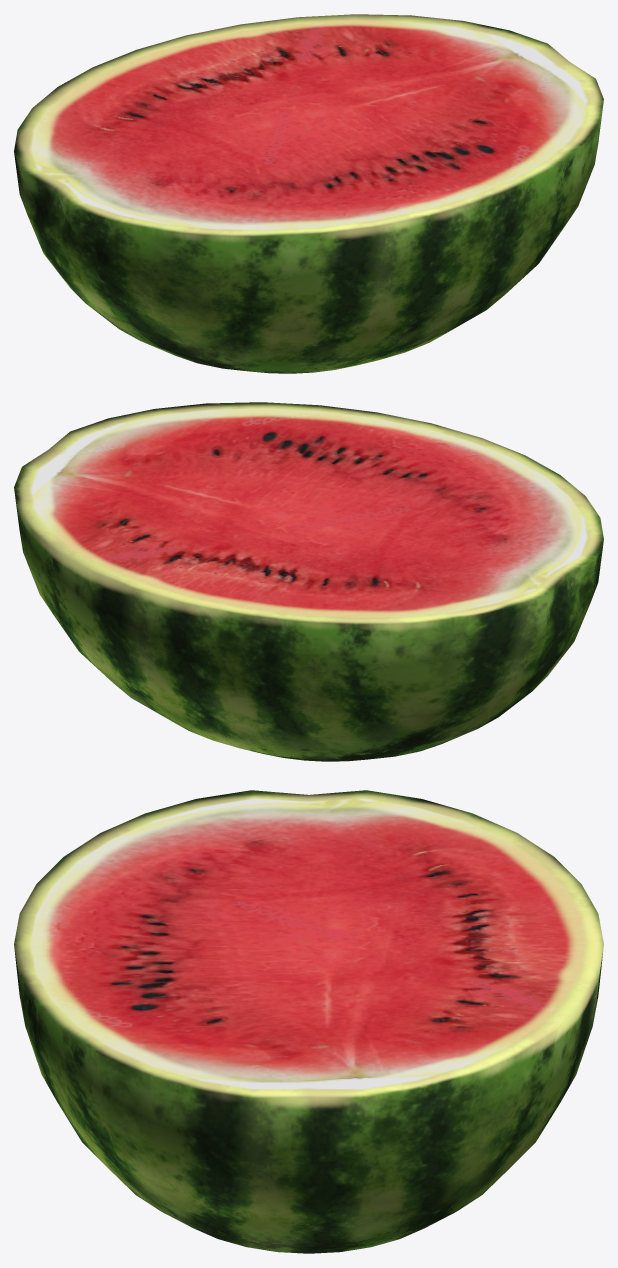
File: SM_Watermelon.fbx
3 renders of one model, top to bottom at view 1: azimuth 30°, elevation 25°; view 2: azimuth 150°, elevation 25°; view 3: azimuth 270°, elevation 25°, orthographic. The views are drawn at different scales.
Visible parts, largest first — view 1: SM_Watermelon_LOD0; view 2: SM_Watermelon_LOD0; view 3: SM_Watermelon_LOD0.
Part boxes in pixels (x1,y1,x2,y2): SM_Watermelon_LOD0: (14, 14, 603, 373); SM_Watermelon_LOD0: (14, 402, 603, 761); SM_Watermelon_LOD0: (14, 790, 603, 1253).
Bounding box in the file's own units: 59.08 × 47.83 × 23.92.
